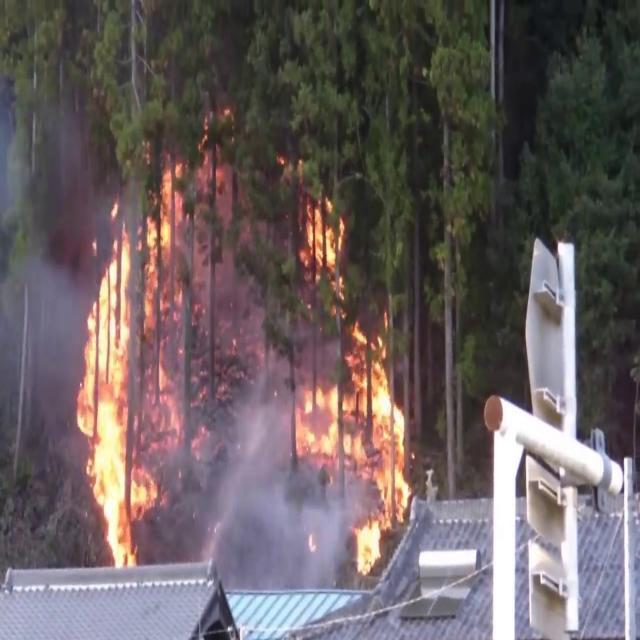Fire: (286, 203, 418, 562), (70, 186, 184, 568)
Smoke: (0, 61, 102, 392), (194, 362, 340, 588)
